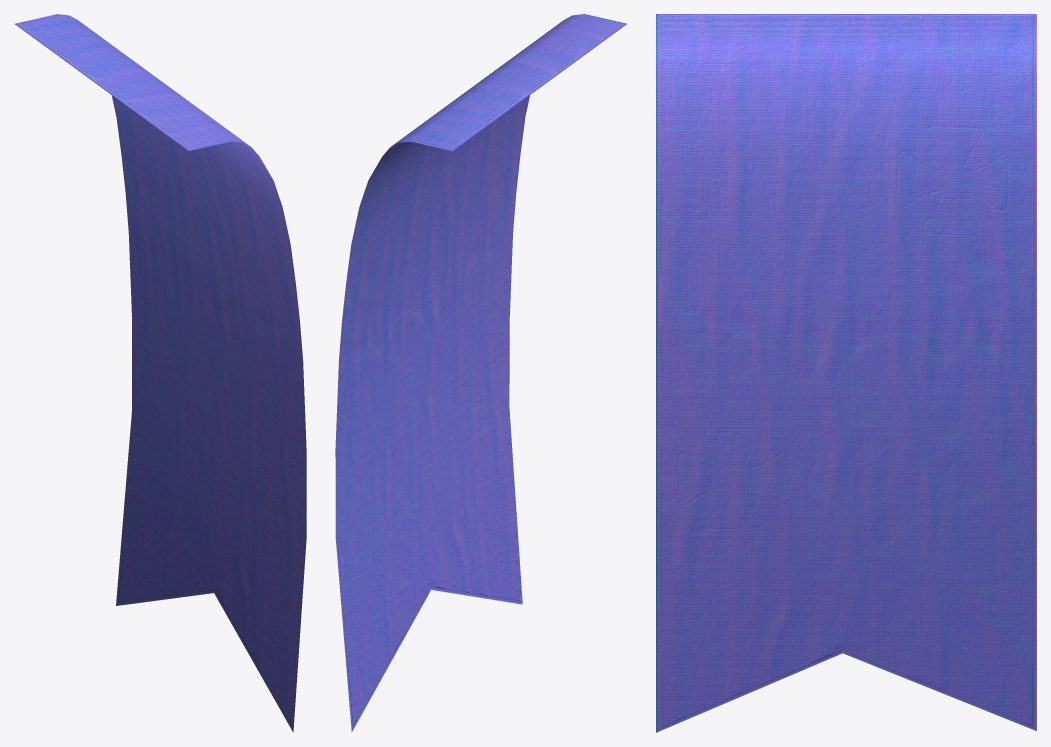
File: SM_flag_01.fbx
3 renders of one model, left to right at view 1: azimuth 30°, elevation 25°; view 2: azimuth 150°, elevation 25°; view 3: azimuth 270°, elevation 25°, orthographic. The views are drawn at different scales.
Parts seen in each view (by area): view 1: SM_flag_01_LOD0; view 2: SM_flag_01_LOD0; view 3: SM_flag_01_LOD0.
Part boxes in pixels (x1,y1,x2,y2): SM_flag_01_LOD0: [14, 14, 306, 732]; SM_flag_01_LOD0: [335, 14, 626, 732]; SM_flag_01_LOD0: [656, 14, 1036, 732].
Size of the model in its own units: 71.03 by 181 by 349.
Materials: 1 (1 with a texture image).
